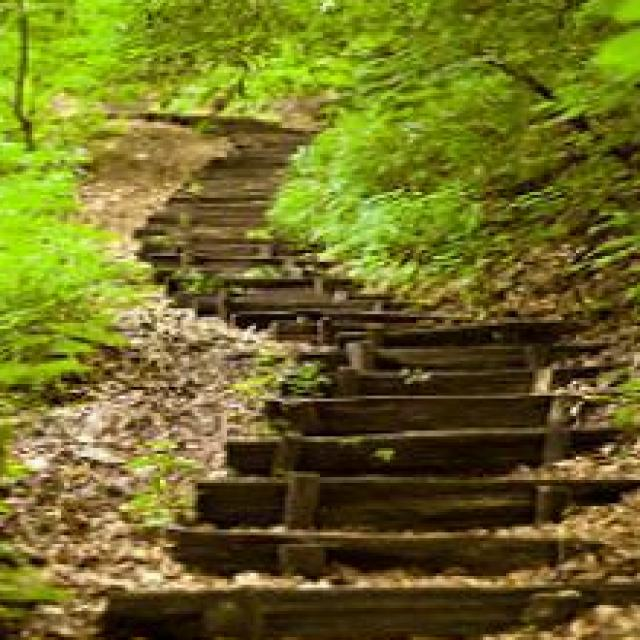upstair: (237, 313, 621, 627)
